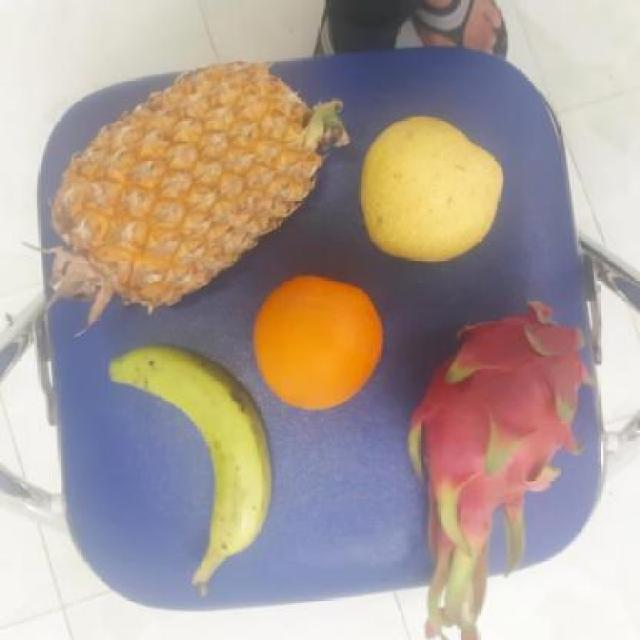banana: (118, 341, 270, 577)
dragon fruit: (405, 299, 604, 573)
oren: (250, 276, 384, 413)
pear: (351, 115, 506, 263)
pineapple: (35, 66, 318, 303)
